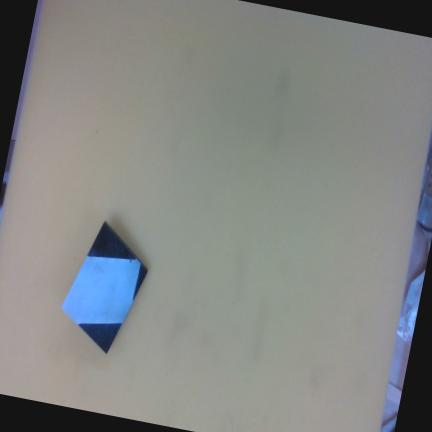tile: (53, 222, 159, 353)
